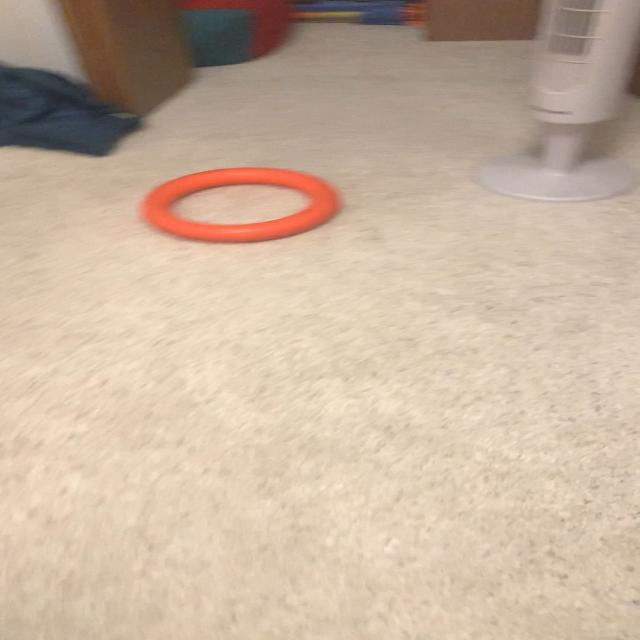notes: (138, 169, 340, 244)
